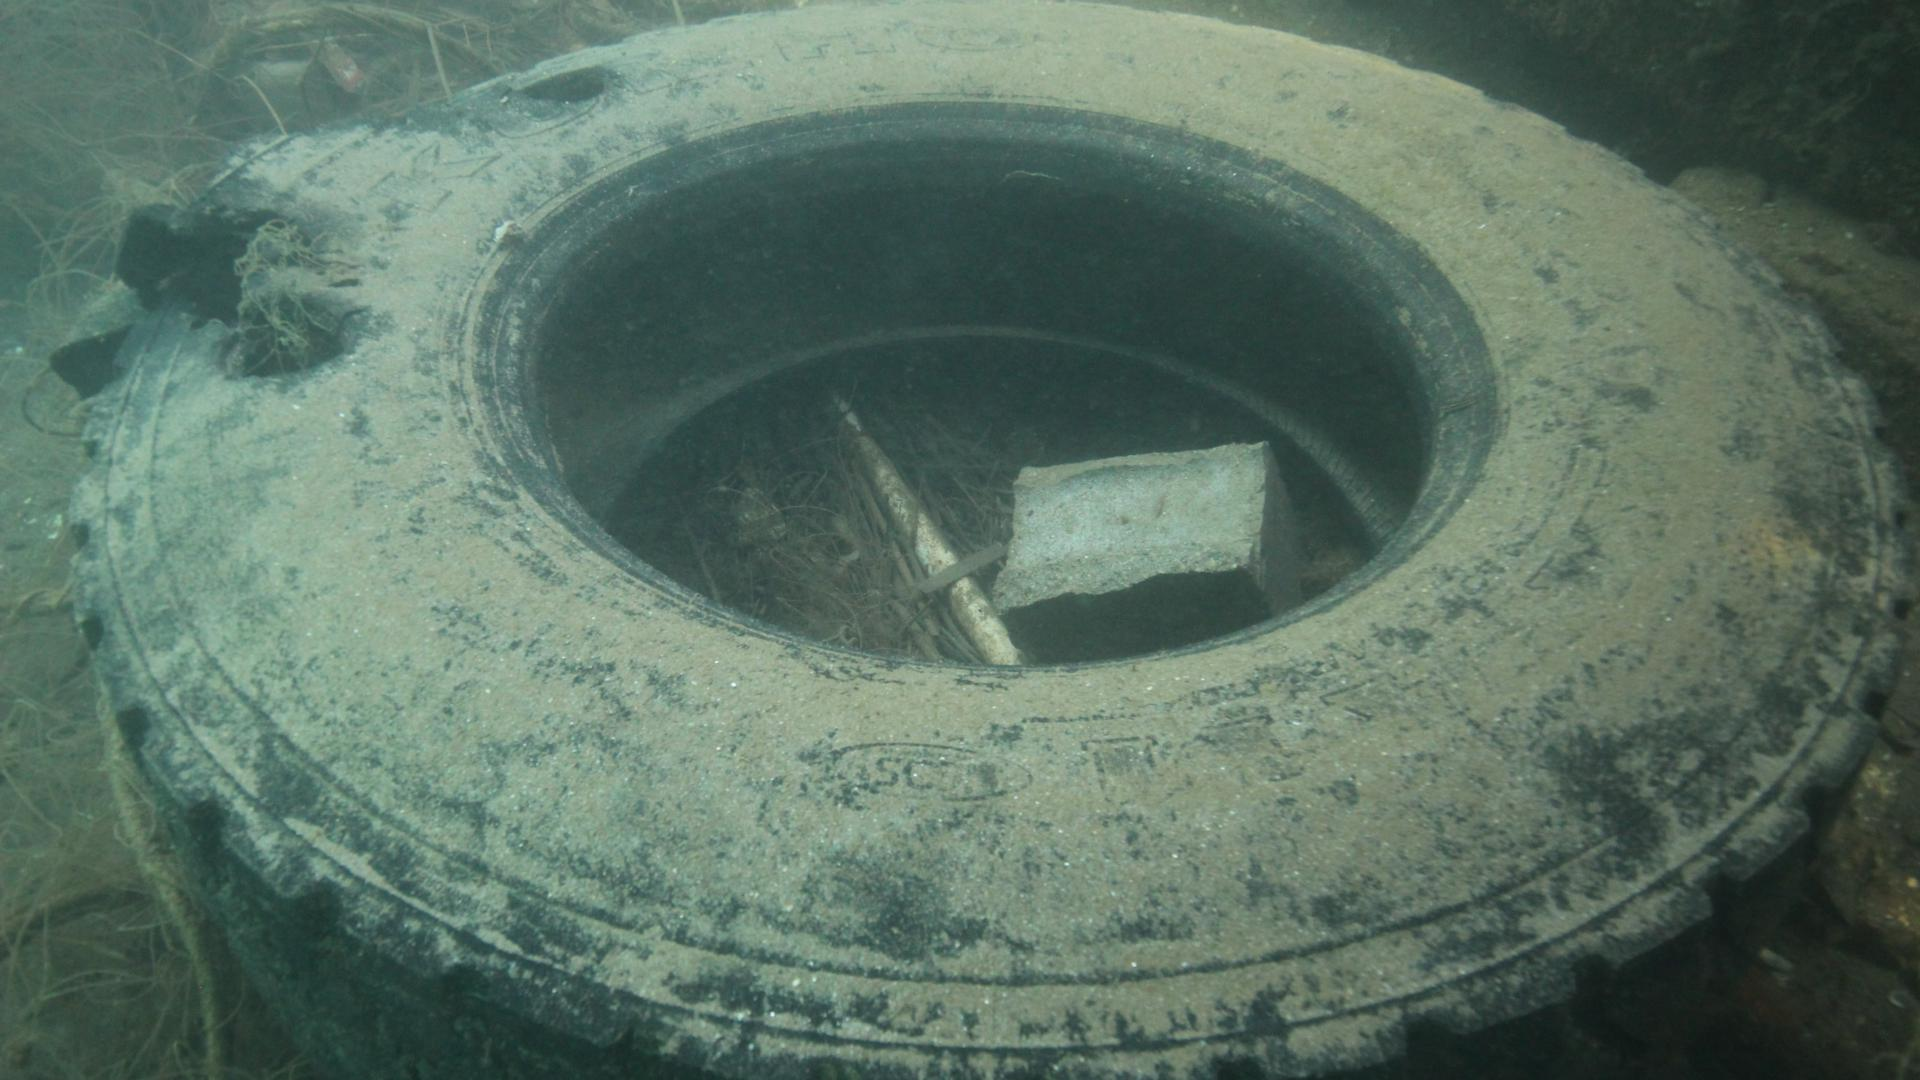rope: (82, 637, 236, 1080)
tire: (50, 0, 1903, 1080)
